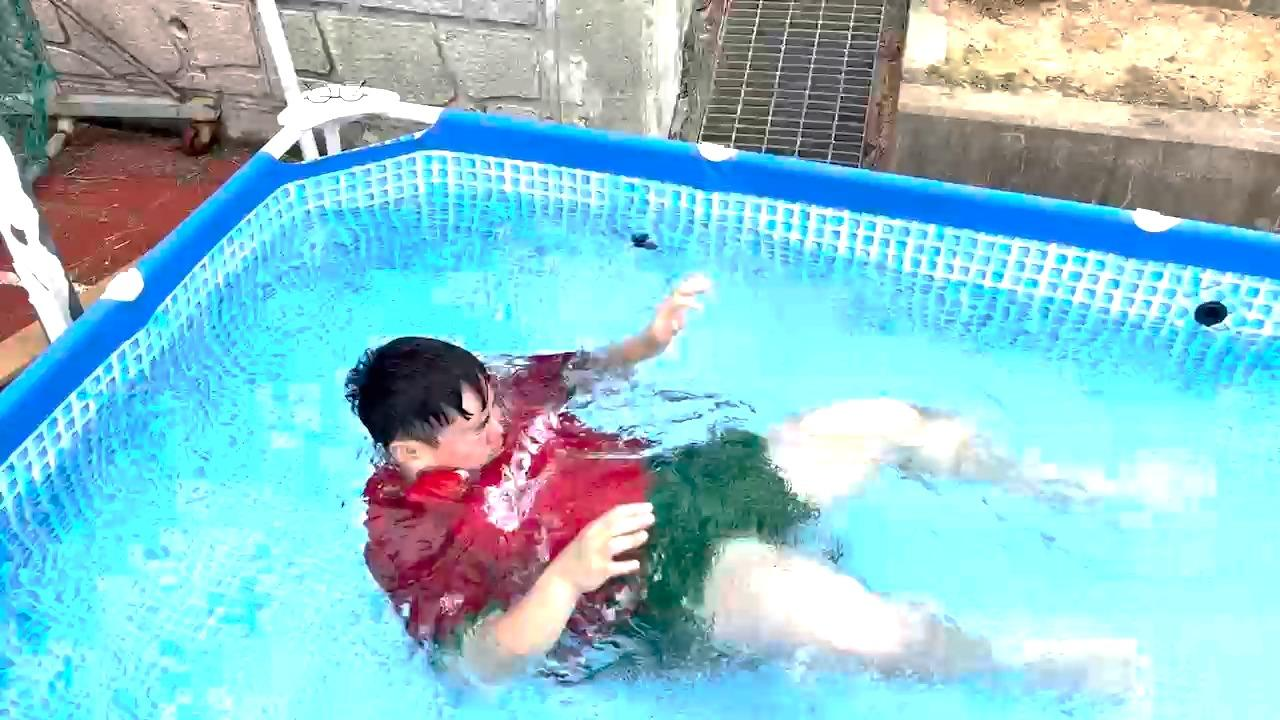Drowning: (282, 247, 1189, 710)
